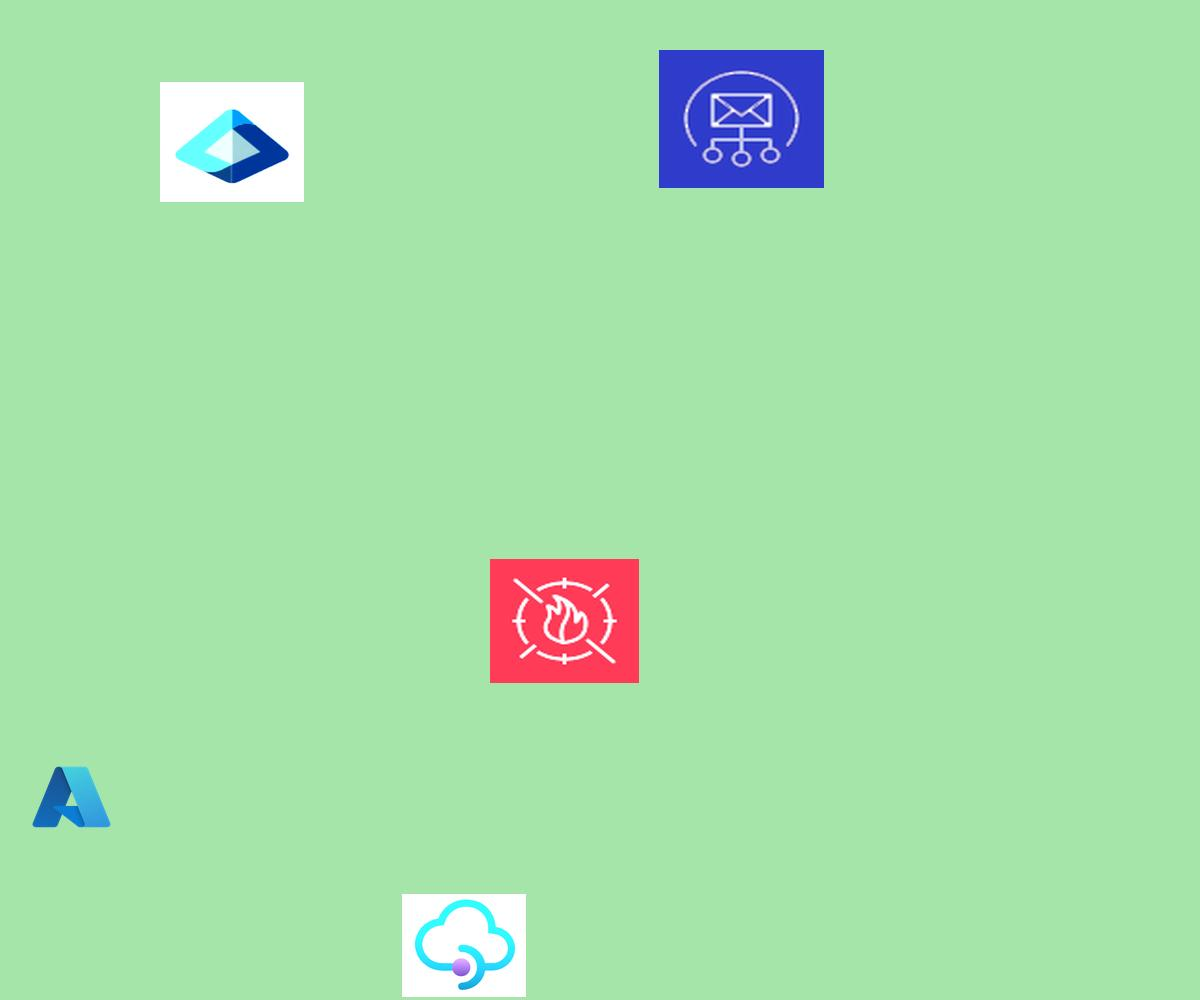AWS-Simple-Email-Service: (659, 50, 824, 188)
AWS-WAF: (490, 559, 639, 683)
Azure_api_gateway: (402, 894, 526, 997)
Azure_microsoft_entra: (160, 82, 304, 202)
Azure_services: (29, 762, 114, 832)
